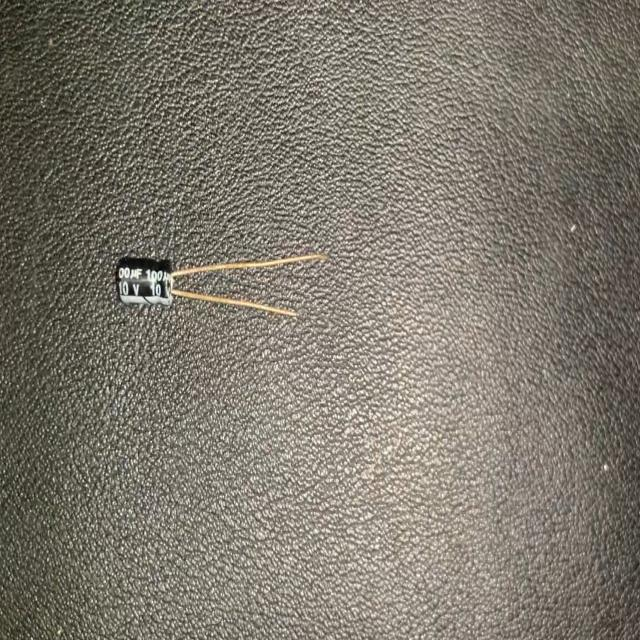capacitor: (113, 246, 324, 322)
